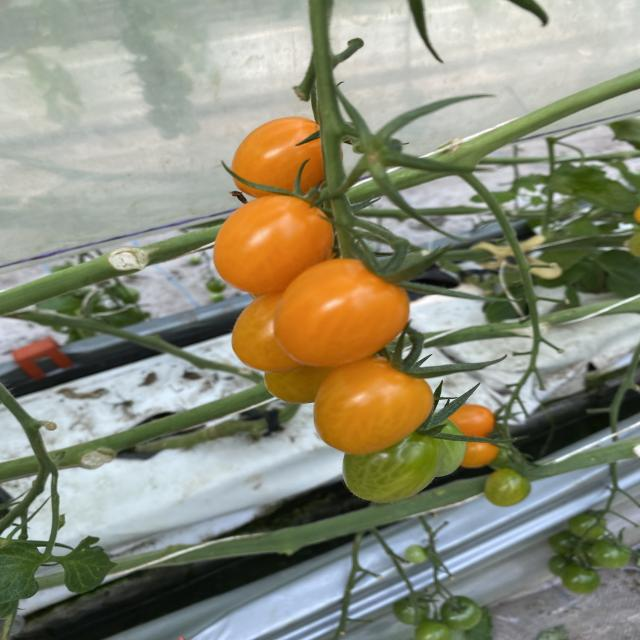sari: (159, 129, 506, 508)
